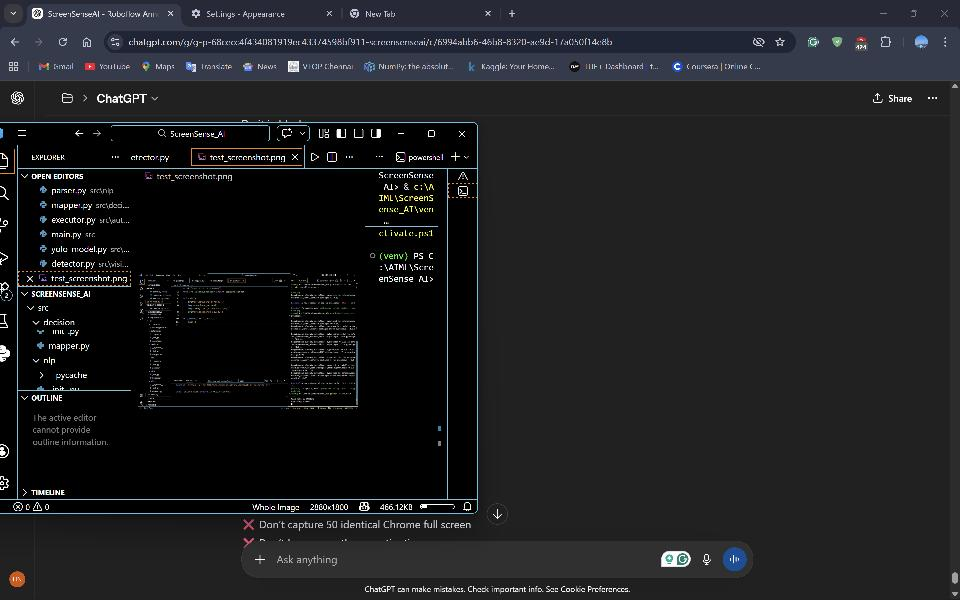close_button: (451, 125, 474, 142), (937, 4, 954, 22)
maximize_button: (902, 4, 925, 23), (420, 126, 444, 142)
minimize_button: (874, 4, 896, 23), (392, 125, 410, 143)
